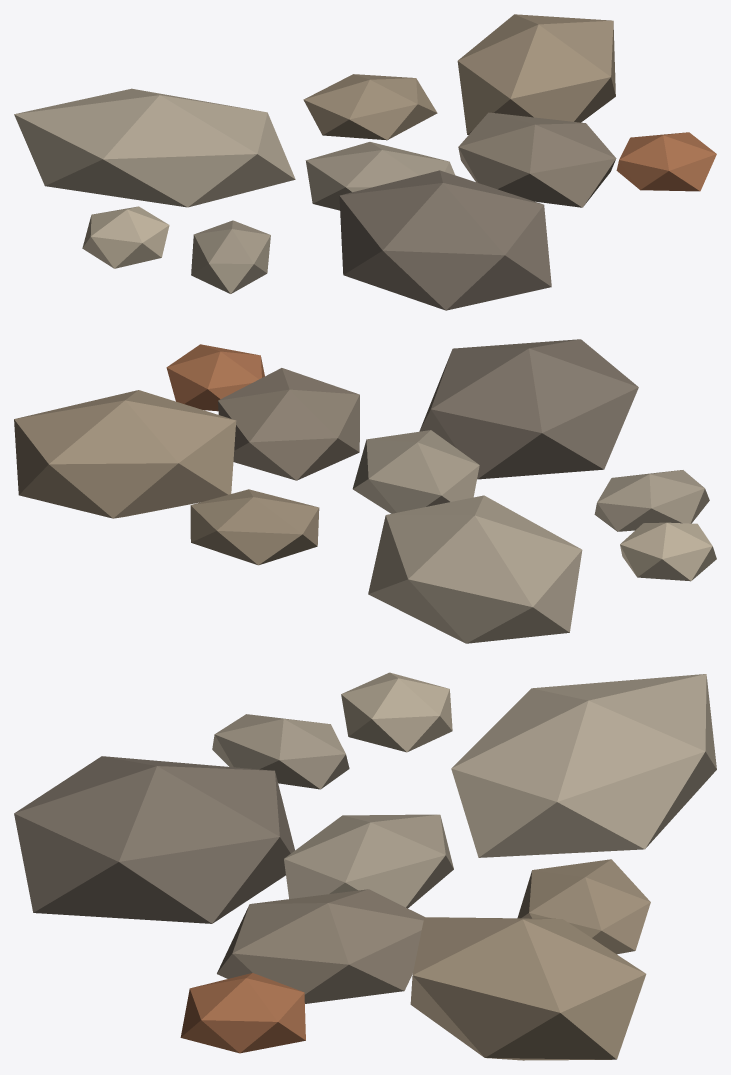
Rendered from river-stones-a.glb.
The picture shows the model from 3 angles, top to bottom: view 1: azimuth 30°, elevation 25°; view 2: azimuth 150°, elevation 25°; view 3: azimuth 270°, elevation 25°; orthographic projection. The views are drawn at different scales.
Visible parts, largest first — view 1: river-stones-a; view 2: river-stones-a; view 3: river-stones-a.
Boxes of the visible parts, x1,y1,x2,y2 form: river-stones-a: (14,14,716,310); river-stones-a: (14,339,716,643); river-stones-a: (14,672,716,1060).
Size of the model in its own units: 3.01 by 0.5523 by 2.4.
